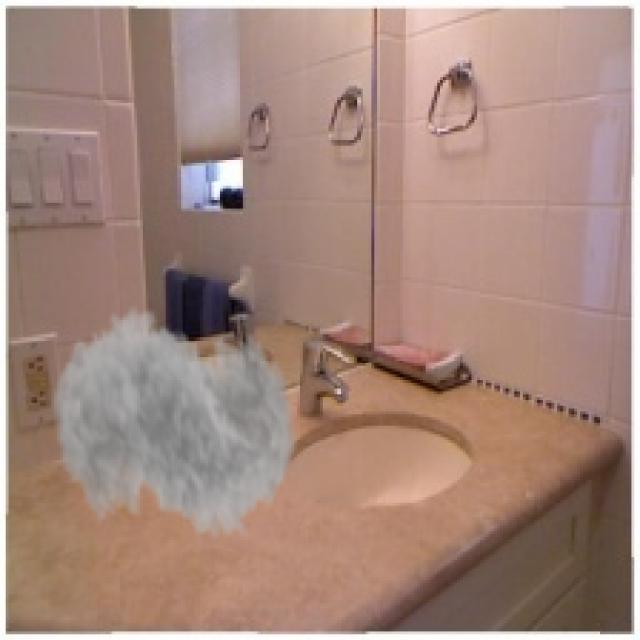Smoke: (51, 286, 298, 568)
